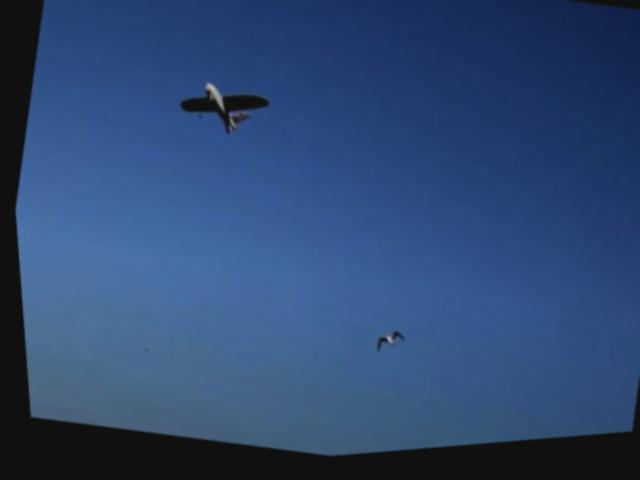iha: (160, 66, 272, 152)
